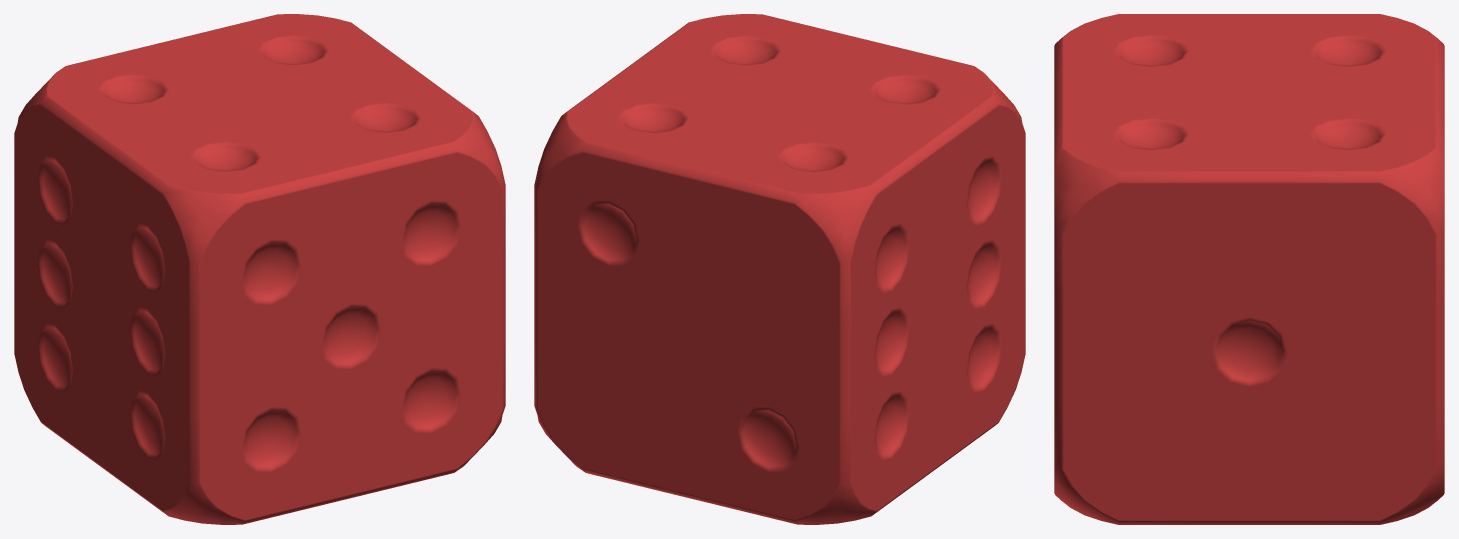
File: cubic-test.dae
3 renders of one model, left to right at view 1: azimuth 30°, elevation 25°; view 2: azimuth 150°, elevation 25°; view 3: azimuth 270°, elevation 25°, orthographic. The views are drawn at different scales.
Parts seen in each view (by area): view 1: Box002; view 2: Box002; view 3: Box002.
Boxes of the visible parts, <box> form: Box002: <box>14,14,505,524</box>; Box002: <box>534,14,1025,524</box>; Box002: <box>1054,14,1444,524</box>.
Bounding box in the file's own units: 1 × 1 × 1.
